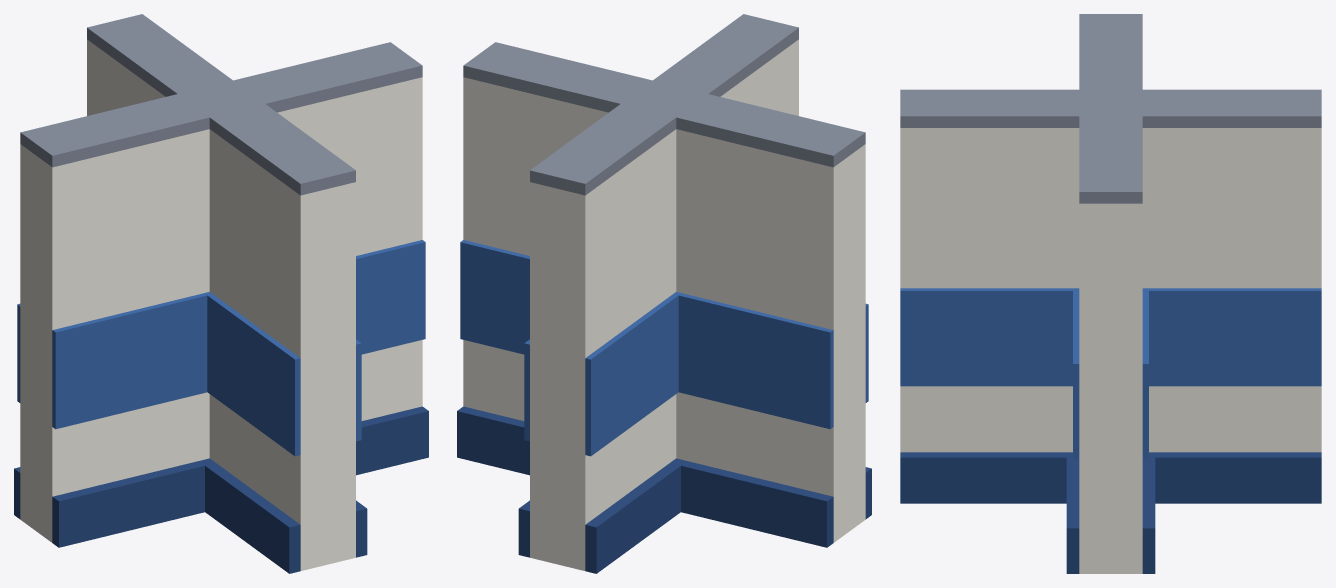
Rendered from partition-full-cross.glb.
3 renders of one model, left to right at view 1: azimuth 30°, elevation 25°; view 2: azimuth 150°, elevation 25°; view 3: azimuth 270°, elevation 25°, orthographic.
Visible parts, largest first — view 1: partition-full-cross; view 2: partition-full-cross; view 3: partition-full-cross.
Boxes of the visible parts, x1=… form: partition-full-cross: x1=14, y1=14, x2=428, y2=573; partition-full-cross: x1=457, y1=14, x2=871, y2=573; partition-full-cross: x1=900, y1=14, x2=1321, y2=573.
Size of the model in its own units: 1 by 1 by 1.
1 material, 1 textured.
